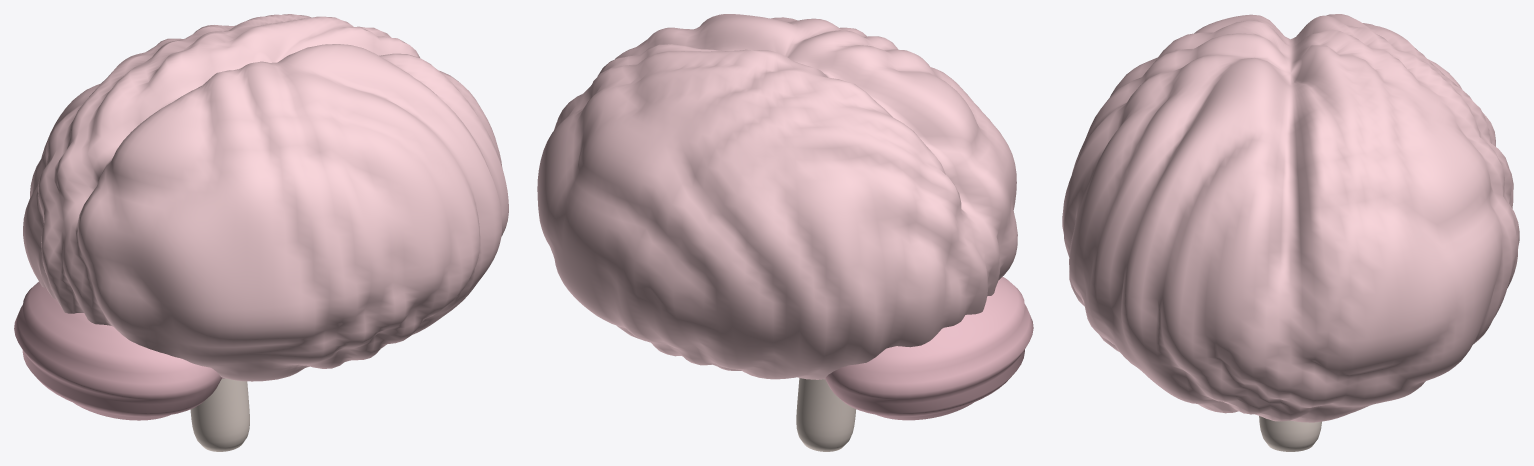
The model's file is brain (1).glb.
3 renders of one model, left to right at view 1: azimuth 30°, elevation 25°; view 2: azimuth 150°, elevation 25°; view 3: azimuth 270°, elevation 25°, orthographic. The views are drawn at different scales.
Bounding box in the file's own units: 1.03 × 0.8839 × 0.8601.
